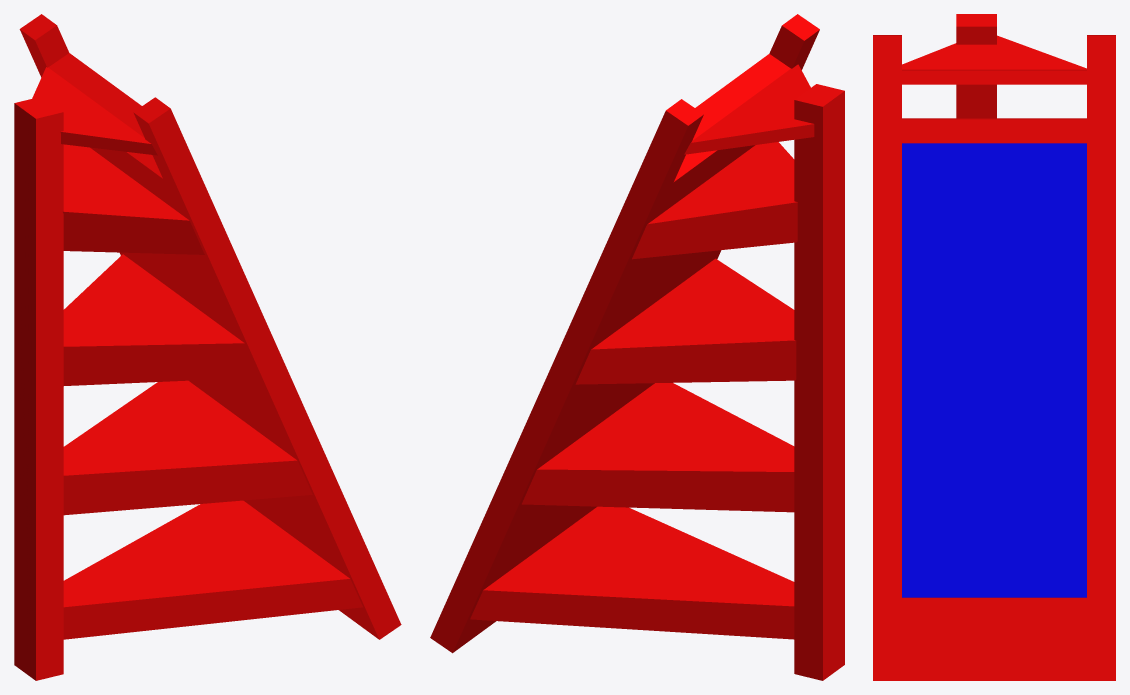
The model's file is Mirror2.fbx.
3 views of the same model, side by side, from view 1: azimuth 30°, elevation 25°; view 2: azimuth 150°, elevation 25°; view 3: azimuth 270°, elevation 25° (orthographic). The views are drawn at different scales.
Visible parts, largest first — view 1: Cube.003, Cube.002; view 2: Cube.003, Cube.002; view 3: Cube.002, Cube.003.
Boxes of the visible parts, x1,y1,x2,y2 form: Cube.003: [32, 67, 362, 639]; Cube.002: [14, 14, 401, 680]; Cube.003: [470, 64, 814, 639]; Cube.002: [430, 14, 844, 680]; Cube.002: [873, 14, 1115, 680]; Cube.003: [902, 35, 1086, 69].
Size of the model in its own units: 447 by 775 by 311.
